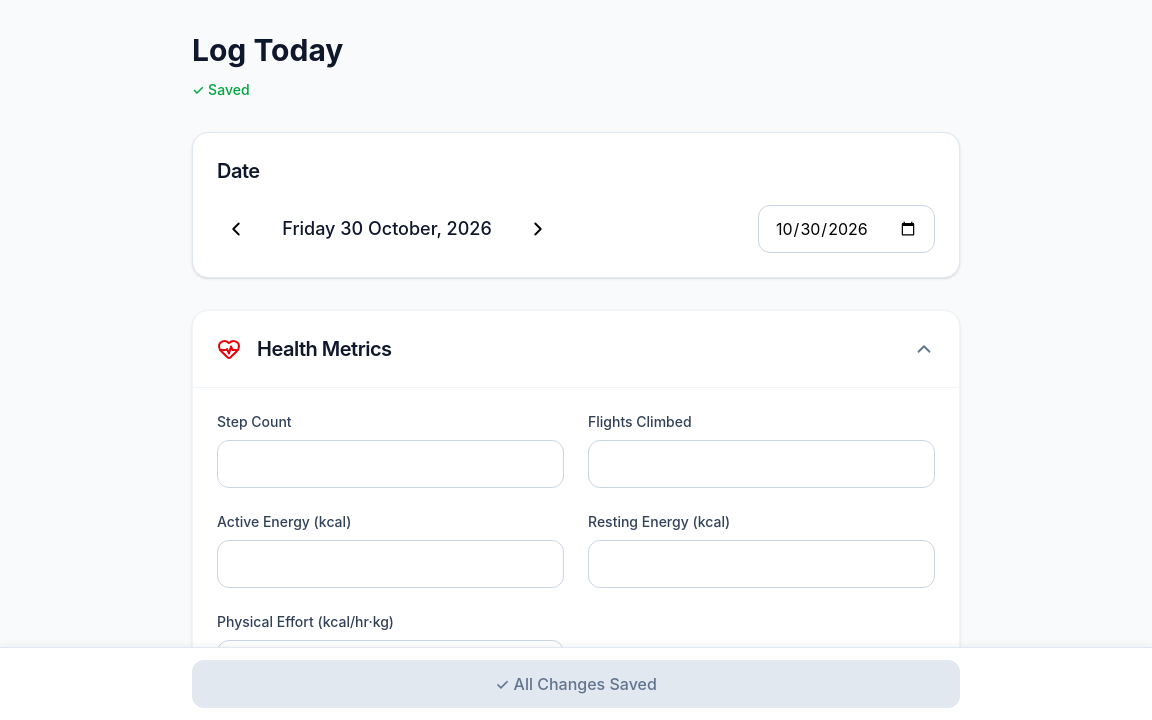
LogHealthMetrics › saves successfully
Type "10000" into the number field labelled "Step Count". click: (390, 464)
box: [217,440,564,488]
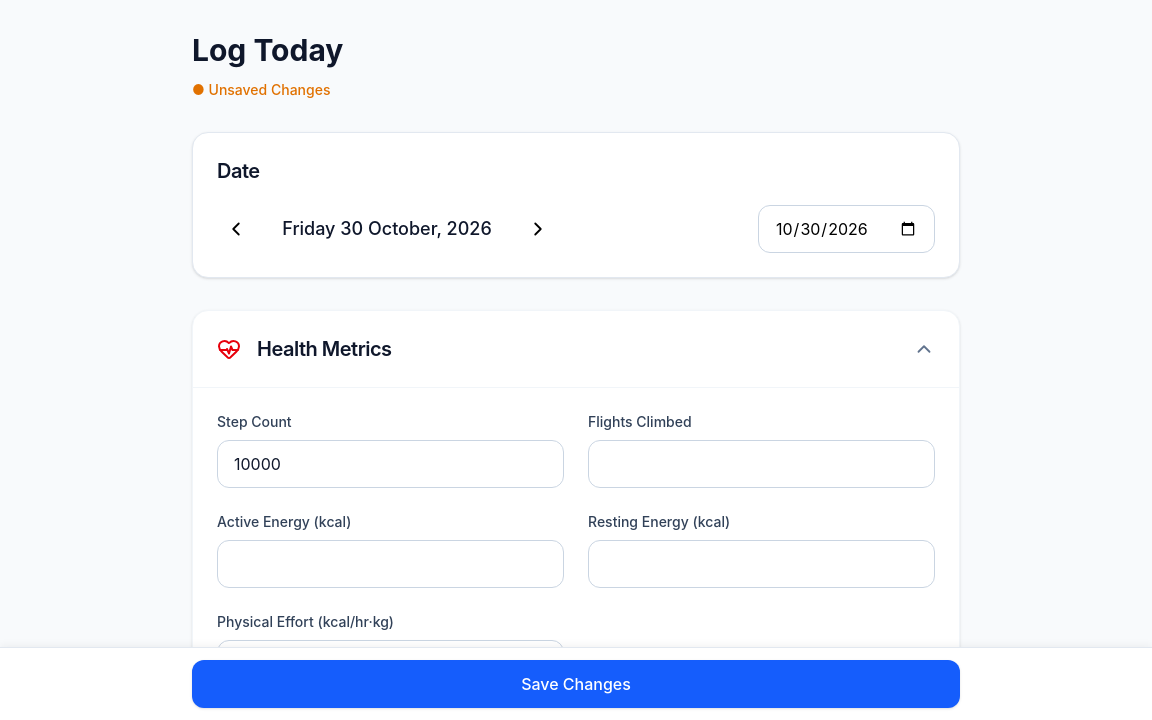
Click the button "Save Changes". click: (576, 684)
box: [192,660,960,708]
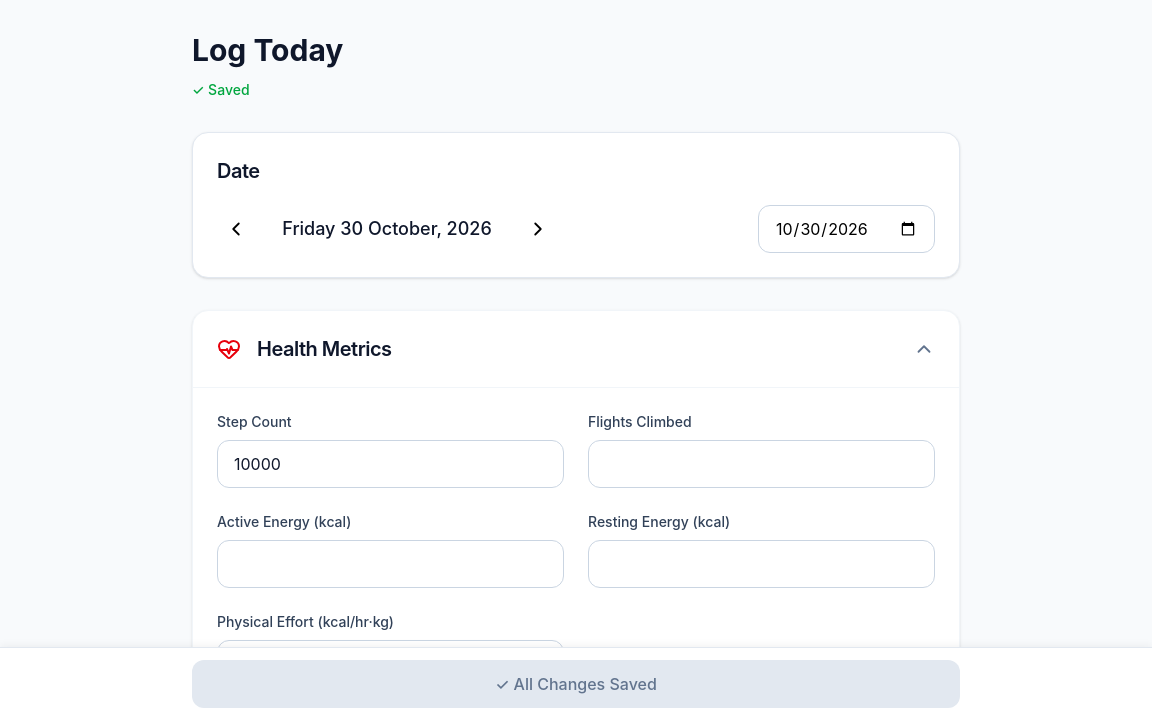
Expected: the text "✓ Saved" is shown, [192,80,250,100]
